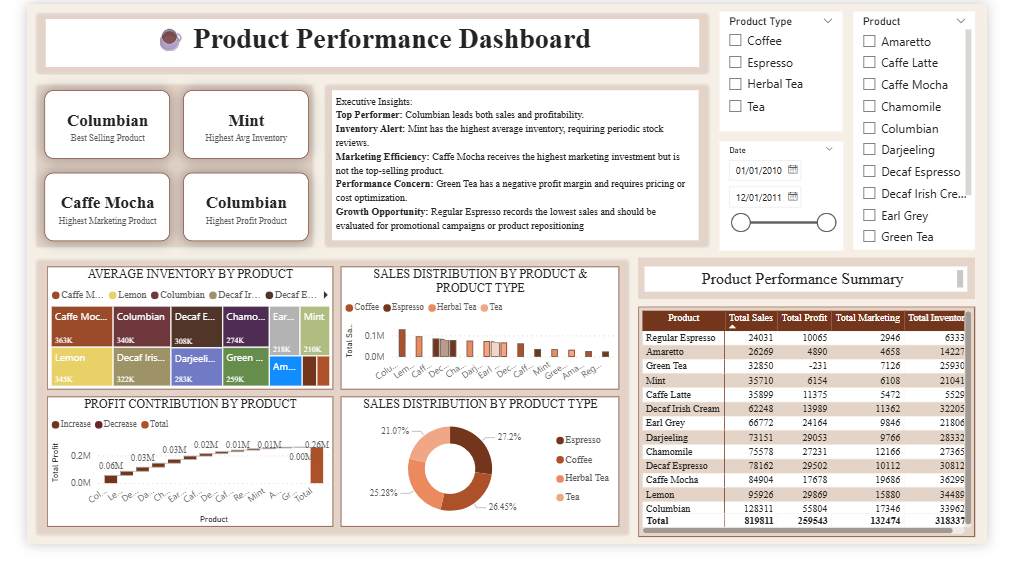

Layout of this report page (visuals, bound fields, positions):
{"tool":"powerbi","page":{"name":"Product Performance Dashboard","canvas":[1280,720],"ordinal":1},"visuals":[{"type":"shape","box":[10,337.5,795,372.5],"z":0},{"type":"shape","box":[10,105.7,374.3,221.4],"z":1000},{"type":"shape","box":[394.3,105.7,517.1,221.4],"z":2000},{"type":"shape","box":[10,10,901.4,85.7],"z":3000},{"type":"textbox","box":[24.3,20,871.4,64.3],"z":4000},{"type":"treemap","title":"AVERAGE INVENTORY BY PRODUCT","fields":{"Values":["Sum(fact.Inventory)"],"Group":["Product.Product"]},"box":[26.2,350,381.2,163.8],"z":5000},{"type":"waterfallChart","title":"PROFIT CONTRIBUTION BY PRODUCT","fields":{"Category":["Product.Product"],"Y":["fact.Total Profit"]},"box":[26.2,523.8,381.2,173.8],"z":6000},{"type":"ribbonChart","title":"SALES DISTRIBUTION BY PRODUCT & PRODUCT TYPE","fields":{"Category":["Product.Product"],"Series":["Product.Product Type"],"Y":["fact.Total Sales"]},"box":[418.8,350,371.2,163.8],"z":7000},{"type":"donutChart","title":"SALES DISTRIBUTION BY PRODUCT TYPE","fields":{"Category":["Product.Product Type"],"Y":["fact.Total Sales"]},"box":[418.8,523.8,371.2,173.8],"z":8000},{"type":"textbox","box":[407.1,115.7,488.6,200],"z":9000},{"type":"card","fields":{"Values":["fact.Highest Marketing Product"]},"box":[22.9,224.3,167.1,91.4],"z":10000},{"type":"card","fields":{"Values":["fact.Best Selling Product"]},"box":[22.9,115.7,167.1,91.4],"z":11000},{"type":"card","fields":{"Values":["fact.Highest Avg Inventory Product"]},"box":[208.6,115.7,167.1,91.4],"z":12000},{"type":"card","fields":{"Values":["fact.Highest Profit Product"]},"box":[208.6,224.3,167.1,91.4],"z":13000},{"type":"pivotTable","fields":{"Rows":["Product.Product"],"Values":["fact.Total Sales","fact.Total Profit","fact.Total Marketing","fact.Total Inventory"]},"box":[815,402.5,448.8,307.5],"z":14000},{"type":"slicer","fields":{"Values":["Product.Product"]},"box":[1101.2,10,162.5,317.5],"z":15000},{"type":"slicer","fields":{"Values":["Product.Product Type"]},"box":[923.8,10,163.8,160],"z":16000},{"type":"slicer","fields":{"Values":["fact.Date"]},"box":[923.8,183.8,163.8,143.8],"z":17000},{"type":"shape","box":[815,337.5,448.8,55],"z":18000},{"type":"textbox","box":[823.8,350,430,33.8],"z":19000}]}

Visuals, with their boxes in screenshot pixels (x1, y1, x2, y2), scaled from the page's 1280x720 canvas onto the 1013x574 screenshot:
shape: x1=8, y1=269, x2=637, y2=566
shape: x1=8, y1=84, x2=304, y2=261
shape: x1=312, y1=84, x2=721, y2=261
shape: x1=8, y1=8, x2=721, y2=76
textbox: x1=19, y1=16, x2=709, y2=67
"AVERAGE INVENTORY BY PRODUCT" treemap: x1=21, y1=279, x2=322, y2=410
"PROFIT CONTRIBUTION BY PRODUCT" waterfallChart: x1=21, y1=418, x2=322, y2=556
"SALES DISTRIBUTION BY PRODUCT & PRODUCT TYPE" ribbonChart: x1=331, y1=279, x2=625, y2=410
"SALES DISTRIBUTION BY PRODUCT TYPE" donutChart: x1=331, y1=418, x2=625, y2=556
textbox: x1=322, y1=92, x2=709, y2=252
card - fact.Highest Marketing Product: x1=18, y1=179, x2=150, y2=252
card - fact.Best Selling Product: x1=18, y1=92, x2=150, y2=165
card - fact.Highest Avg Inventory Product: x1=165, y1=92, x2=297, y2=165
card - fact.Highest Profit Product: x1=165, y1=179, x2=297, y2=252
pivotTable - Product.Product x fact.Total Sales: x1=645, y1=321, x2=1000, y2=566
slicer - Product.Product: x1=871, y1=8, x2=1000, y2=261
slicer - Product.Product Type: x1=731, y1=8, x2=861, y2=136
slicer - fact.Date: x1=731, y1=147, x2=861, y2=261
shape: x1=645, y1=269, x2=1000, y2=313
textbox: x1=652, y1=279, x2=992, y2=306
